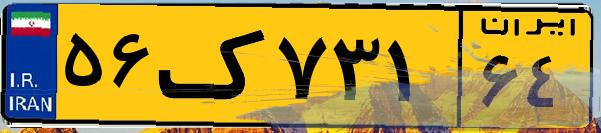1: (385, 28, 445, 110)
3: (330, 28, 385, 110)
4: (525, 38, 570, 115)
5: (57, 26, 110, 100)
6: (475, 38, 525, 113), (110, 28, 158, 98)
7: (270, 28, 330, 110)
ک: (158, 12, 270, 120)
